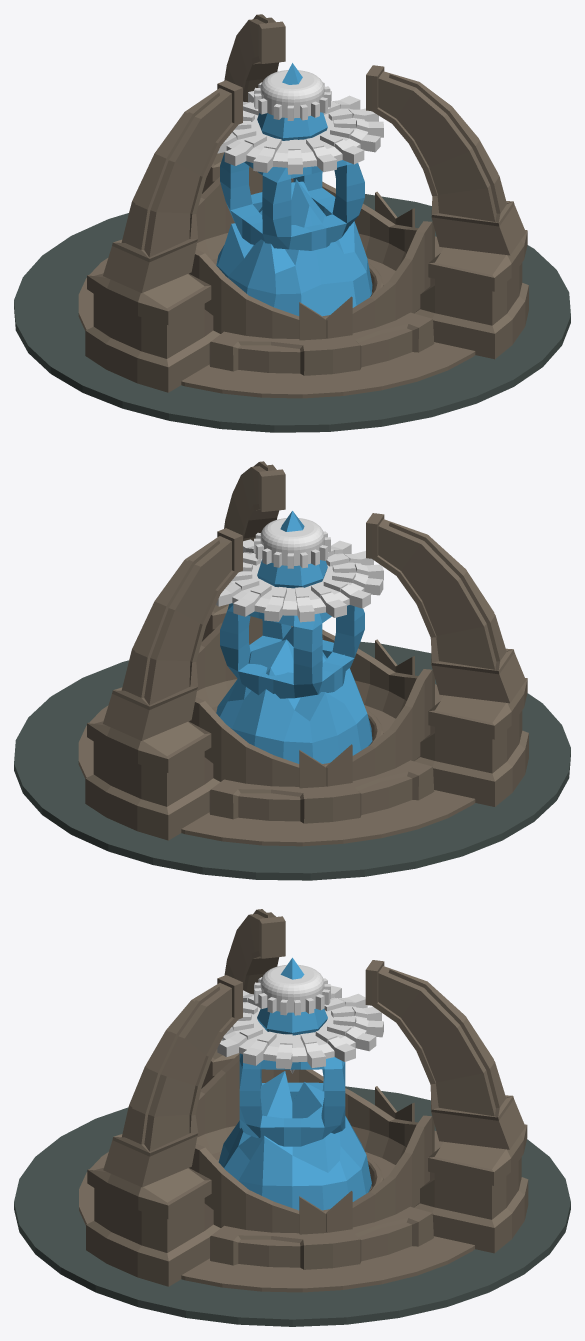
The model's file is BES.fbx.
3 views of the same model, one above another, from view 1: azimuth 30°, elevation 25°; view 2: azimuth 150°, elevation 25°; view 3: azimuth 270°, elevation 25° (orthographic).
Parts seen in each view (by area): view 1: Cylinder, Cylinder.001, Cube, Cone, Cube.001, Cube.002; view 2: Cylinder, Cylinder.001, Cube, Cone, Cube.001, Cube.002; view 3: Cylinder, Cylinder.001, Cube, Cone, Cube.001, Cube.002.
Part boxes in pixels (<box>): Cylinder: <box>78,14,528,398</box>; Cylinder.001: <box>14,194,570,432</box>; Cube: <box>216,179,372,316</box>; Cone: <box>217,70,383,179</box>; Cube.001: <box>220,152,364,250</box>; Cube.002: <box>257,63,327,140</box>; Cylinder: <box>78,461,528,846</box>; Cylinder.001: <box>14,641,570,880</box>; Cube: <box>216,626,372,763</box>; Cone: <box>216,518,383,626</box>; Cube.001: <box>220,603,364,698</box>; Cube.002: <box>257,511,327,588</box>; Cylinder: <box>79,909,528,1292</box>; Cylinder.001: <box>14,1086,570,1326</box>; Cube: <box>218,1071,371,1210</box>; Cone: <box>217,964,383,1073</box>; Cube.001: <box>239,1053,345,1146</box>; Cube.002: <box>257,957,327,1035</box>.
Bounding box in the file's own units: 1314 × 661 × 1314.
